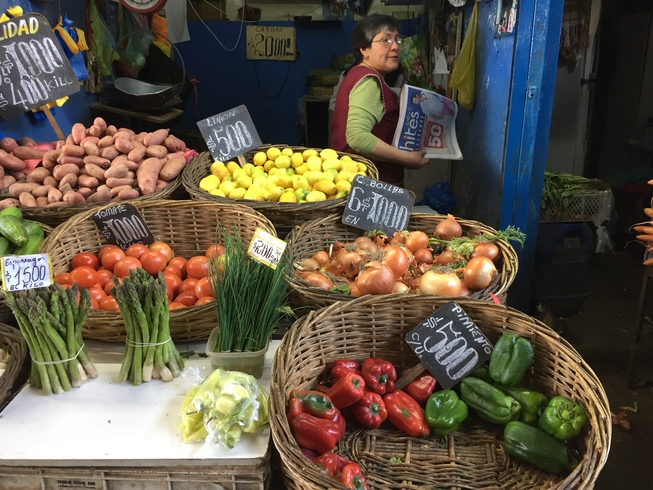precio: (409, 302, 497, 399), (1, 14, 81, 108), (340, 171, 422, 247), (199, 102, 265, 167), (95, 203, 151, 253), (1, 252, 53, 296), (247, 230, 293, 274), (246, 26, 297, 58)
